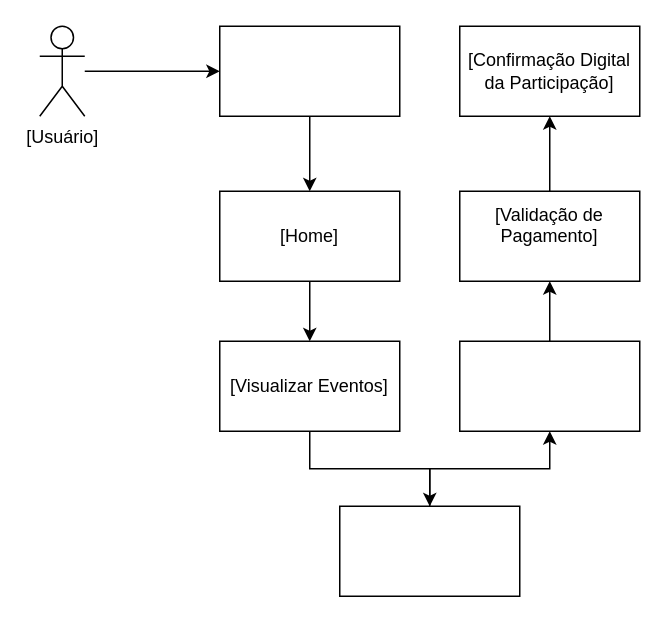
Some shapes in this 666 by 623 pixel diagram are drawn without their labels. Here are the shapes that lost their labels. From the top down, the centre of each, then its label:
At (x=309, y=70): "[Tela de Login]".
At (x=549, y=385): "[Compra do Ingresso / Inscrição]".
At (x=429, y=550): "[Detalhes do Evento]".
